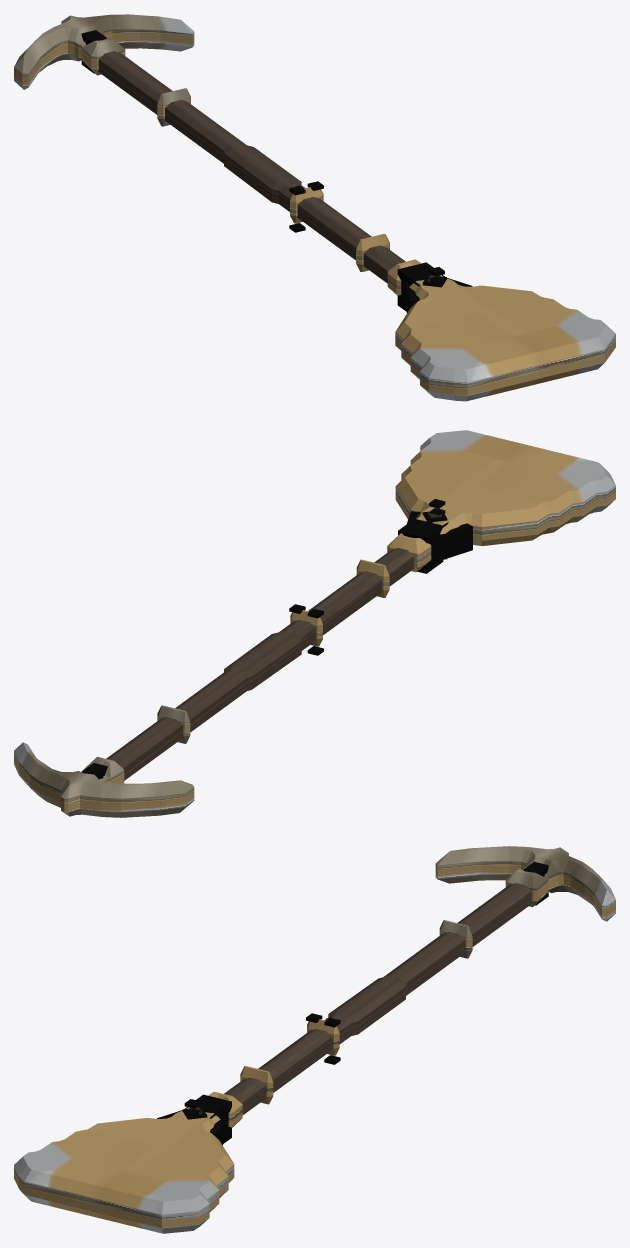
File: monk_spade.obj
3 views of the same model, one above another, from view 1: azimuth 30°, elevation 25°; view 2: azimuth 150°, elevation 25°; view 3: azimuth 330°, elevation 25° (orthographic).
Visible parts, largest first — view 1: monk_spade; view 2: monk_spade; view 3: monk_spade.
Part boxes in pixels (x1,y1,x2,y2): monk_spade: (14,14,615,401); monk_spade: (14,430,615,817); monk_spade: (14,846,615,1233).
Size of the model in its own units: 0.4062 by 0.1175 by 1.78.
